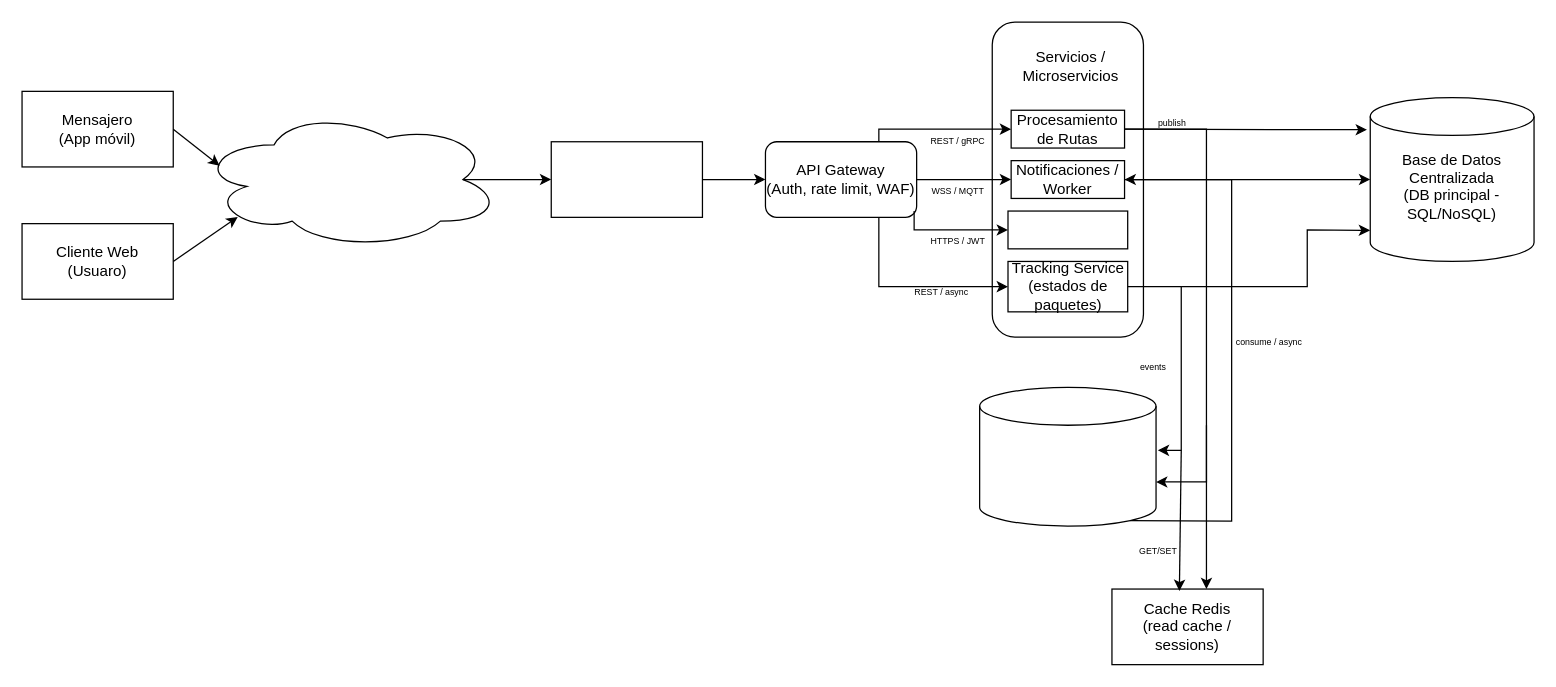
Image size: 1556x687. Some labels were removed from this diagram. The centre of each missing label's shape, as x and y in pixels:
"Auth Service" goes at (x=1067, y=229).
"Internet / CDN / DNS" goes at (x=349, y=179).
"Load Balancer (LB - HTTPS 443)" goes at (x=626, y=178).
"Message Broker (Kafka / RabbitMQ / SQS)" goes at (x=1067, y=456).
